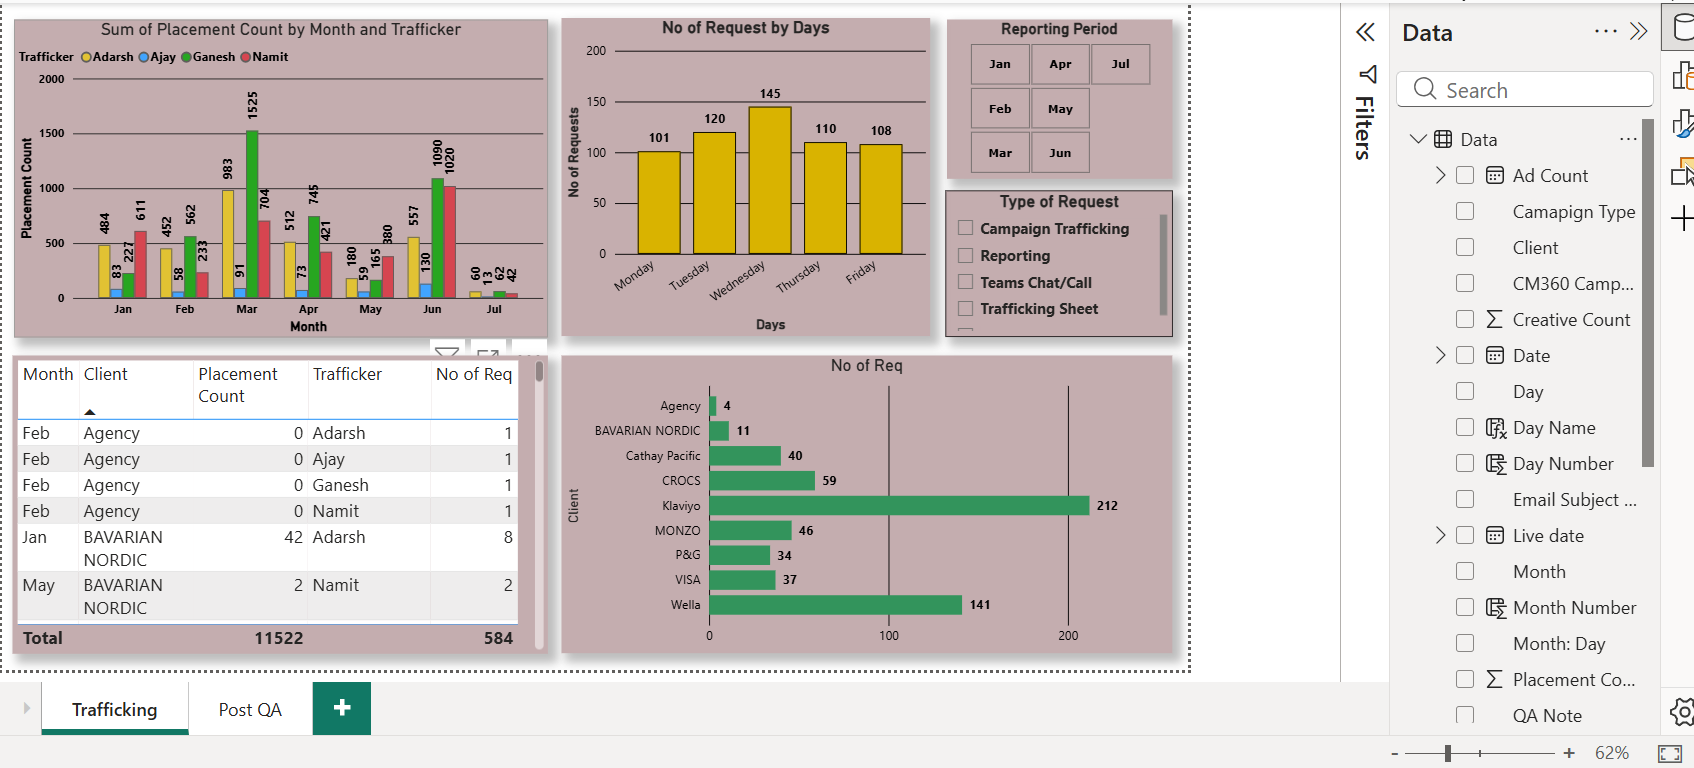

What the dashboard file says about the page in this screenshot:
{"tool":"powerbi","page":{"name":"Trafficking","canvas":[1280,720],"ordinal":0},"visuals":[{"type":"clusteredColumnChart","fields":{"Series":["Data.Trafficker"],"Y":["Sum(Data.Placement Count)"],"Category":["Data.Month"]},"box":[13,17.8,576.4,343.3],"z":0},{"type":"tableEx","title":"Client Wise Request","fields":{"Values":["Data.Month","Data.Client","Sum(Data.Placement Count)","Data.Trafficker","Data.Request Type"]},"box":[11.3,380.5,578.1,322.2],"z":1000},{"type":"slicer","title":"Reporting Period","fields":{"Values":["Data.Month"]},"box":[1020.8,18.2,243,172.2],"z":2000},{"type":"clusteredBarChart","title":"No of Req","fields":{"Category":["Data.Client"],"Y":["CountNonNull(Data.Month)"]},"box":[603.6,381.2,659.2,321.7],"z":3000},{"type":"slicer","title":"Type of Request","fields":{"Values":["Data.Request Type"]},"box":[1018.7,202.5,245.1,158],"z":4000},{"type":"columnChart","title":"No of Request by Days","fields":{"Category":["Data.Day Name"],"Y":["CountNonNull(Data.Request Type)"]},"box":[604,16.2,398.3,343.3],"z":5000}]}

Visuals, with their boxes on the page's 1280x720 design canvas (x1, y1, x2, y2). These are canvas units, not pixel positions in the 1694x768 screenshot, which may show the page scaled, cropped or inside an application window:
clusteredColumnChart - Data.Trafficker x Sum(Data.Placement Count): 13 18 589 361
"Client Wise Request" tableEx: 11 380 589 703
"Reporting Period" slicer: 1021 18 1264 190
"No of Req" clusteredBarChart: 604 381 1263 703
"Type of Request" slicer: 1019 202 1264 360
"No of Request by Days" columnChart: 604 16 1002 360
